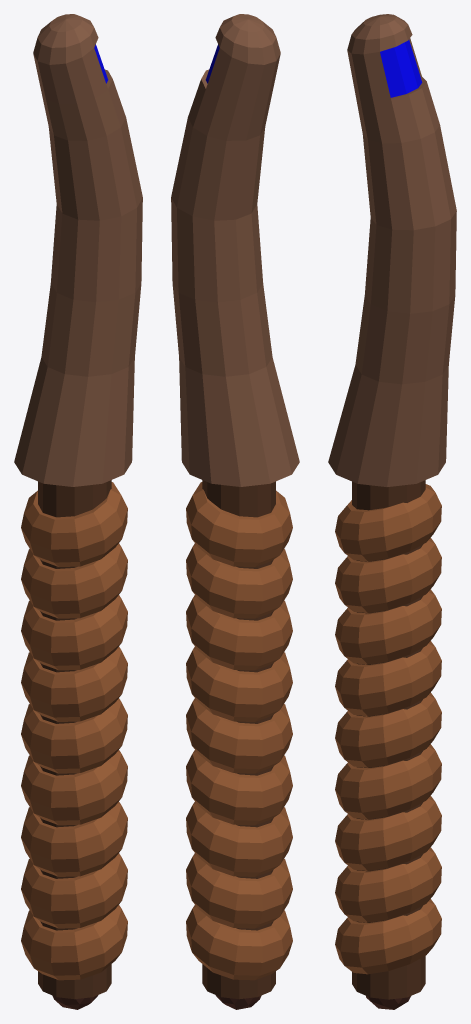
Rendered from Wand 440.glb.
3 renders of one model, left to right at view 1: azimuth 30°, elevation 25°; view 2: azimuth 150°, elevation 25°; view 3: azimuth 330°, elevation 25°, orthographic.
Visible parts, largest first — view 1: GeneratedWand; view 2: GeneratedWand; view 3: GeneratedWand.
Part boxes in pixels (box(x1,y1,x2,y2)): GeneratedWand: box(14, 14, 142, 1009); GeneratedWand: box(171, 14, 299, 1009); GeneratedWand: box(328, 14, 456, 1009).
Bounding box in the file's own units: 0.0644 × 0.5292 × 0.0581.
